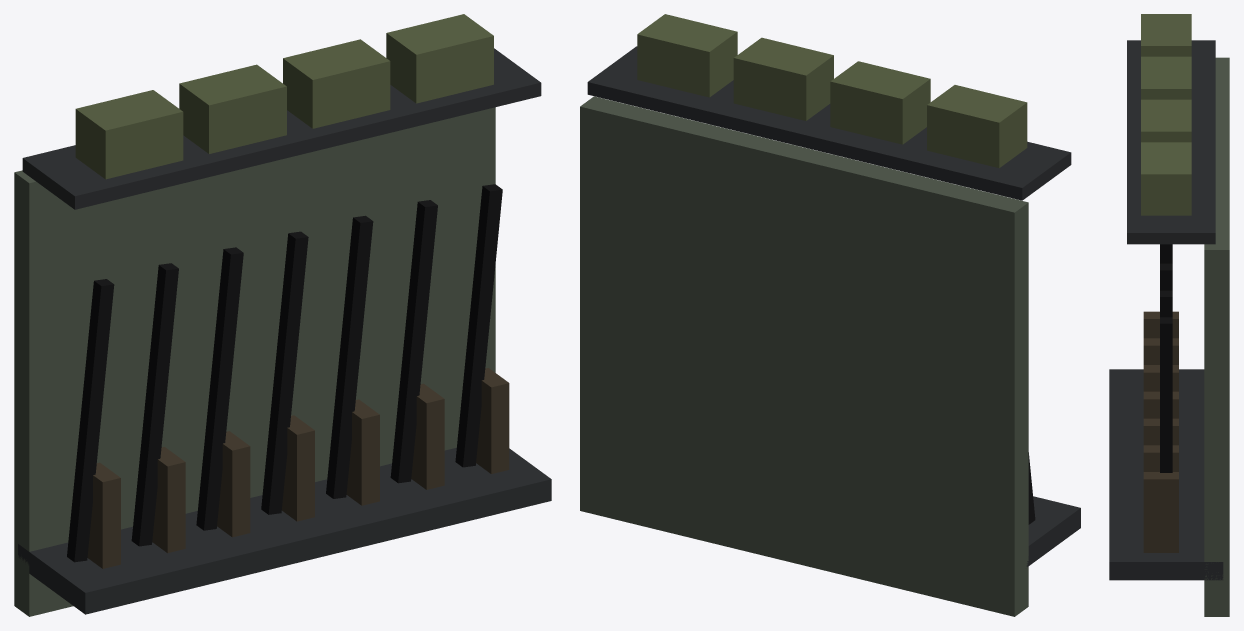
Rendered from weapon-rack.glb.
The picture shows the model from 3 angles, left to right: view 1: azimuth 30°, elevation 25°; view 2: azimuth 150°, elevation 25°; view 3: azimuth 270°, elevation 25°; orthographic projection. The views are drawn at different scales.
Parts seen in each view (by area): view 1: Piece_lod0; view 2: Piece_lod0; view 3: Piece_lod0.
Boxes of the visible parts, x1,y1,x2,y2 form: Piece_lod0: [14, 14, 551, 616]; Piece_lod0: [580, 14, 1080, 616]; Piece_lod0: [1109, 14, 1229, 616].
Size of what is drawn, in the model's own units: 1.8 by 1.86 by 0.475.
